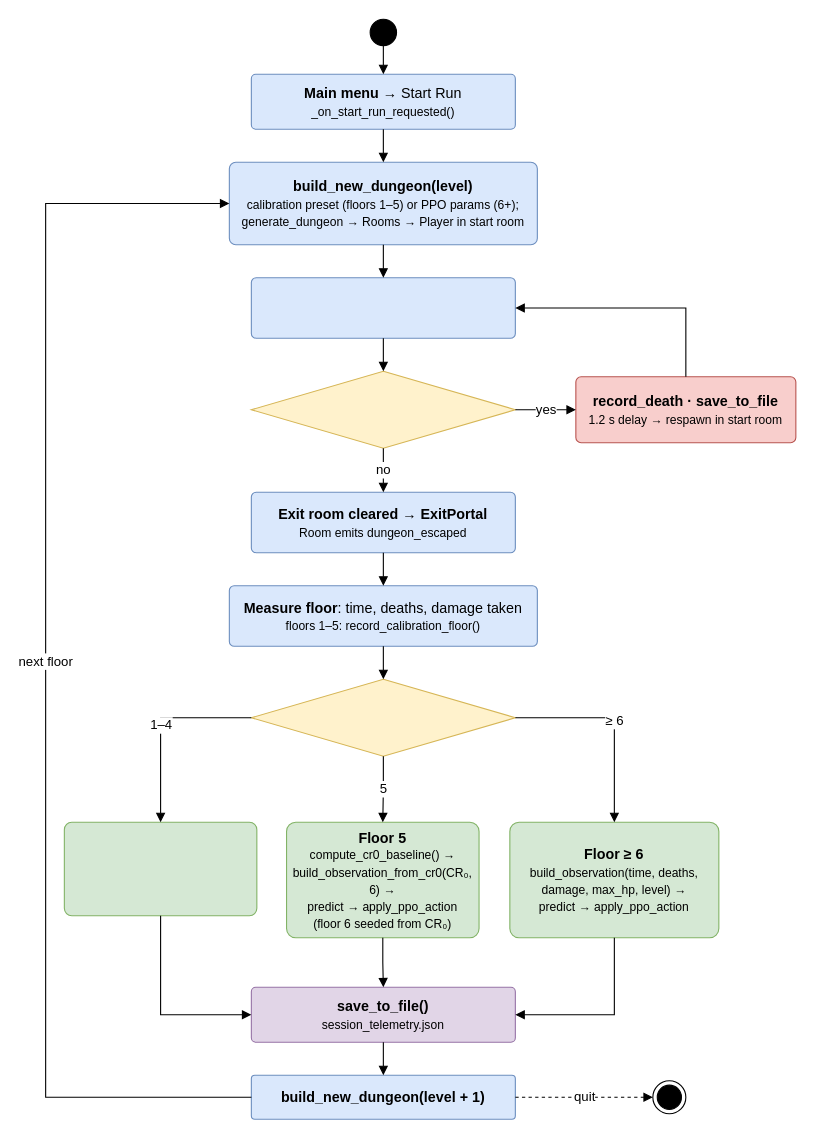
The diagram is 815 pixels wide and 1139 high, and some of its shapes have lost their labels. The shapes that lost their labels are listed below. From the top down, each one's box as (x1, y1, x2, y2) in pixels, then its label:
(250, 277, 515, 338): Explore rooms, fight enemies TelemetryLogger.record_*()
(250, 370, 515, 448): Player dies?
(250, 678, 515, 756): Floor index?
(63, 821, 257, 916): Floors 1–4 no PPO step; next fixed calibration preset is applied
